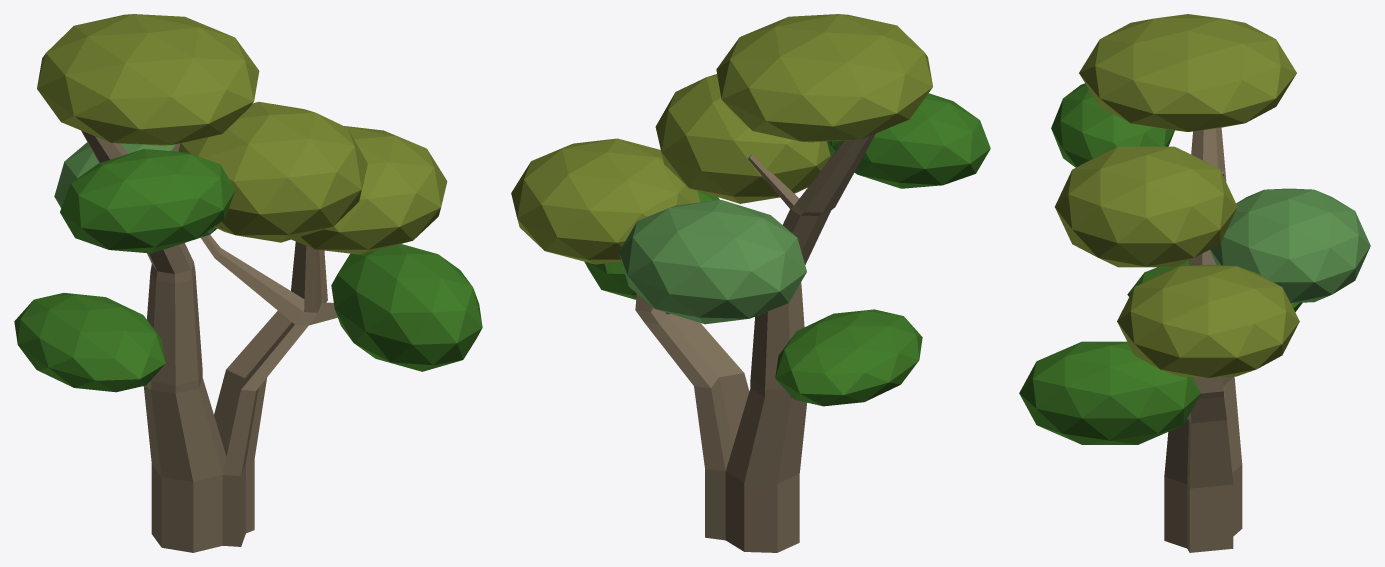
File: Tree1Lush.fbx
3 views of the same model, side by side, from view 1: azimuth 30°, elevation 25°; view 2: azimuth 150°, elevation 25°; view 3: azimuth 270°, elevation 25° (orthographic). The views are drawn at different scales.
Visible parts, largest first — view 1: Cylinder.005; view 2: Cylinder.005; view 3: Cylinder.005.
Part boxes in pixels (x1,y1,x2,y2): Cylinder.005: (14, 14, 482, 552); Cylinder.005: (511, 14, 990, 552); Cylinder.005: (1019, 14, 1370, 552).
Size of the model in its own units: 1222 by 1479 by 992.
